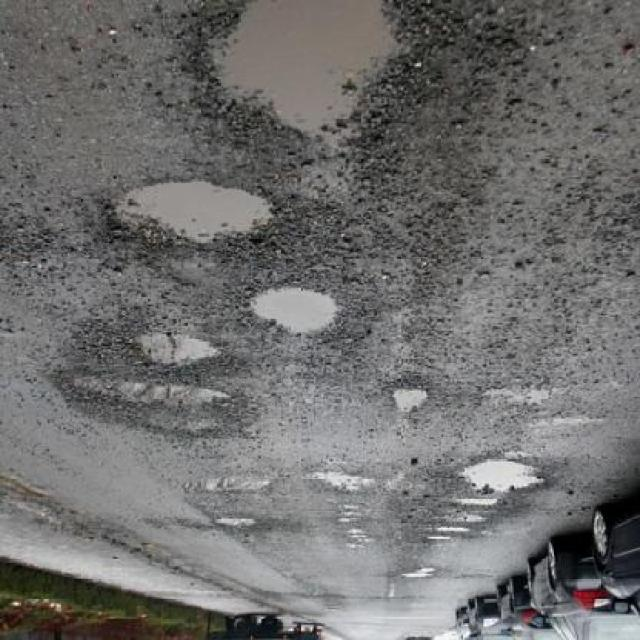pothole: (180, 2, 428, 162), (93, 176, 290, 264), (54, 378, 234, 412), (121, 327, 233, 378)
